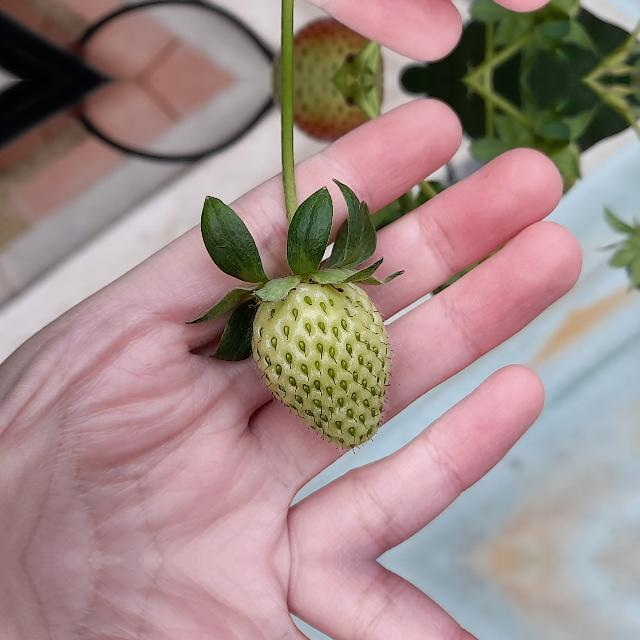Health_25: (251, 278, 389, 448)
